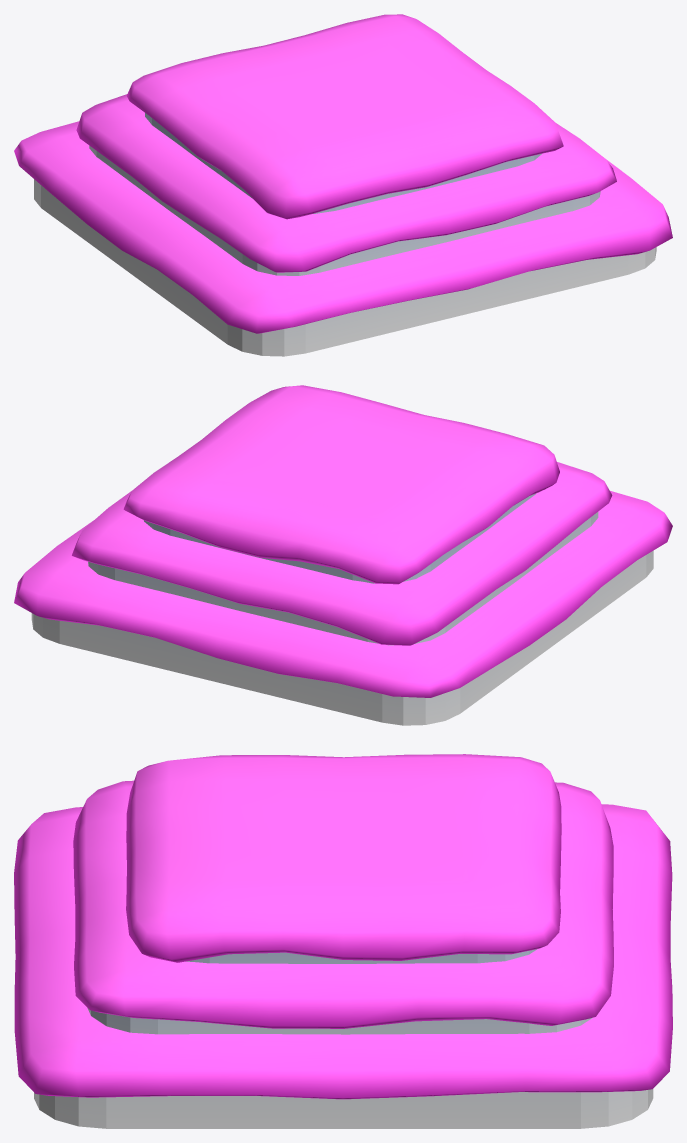
The model's file is Podium_01.glb.
3 views of the same model, one above another, from view 1: azimuth 30°, elevation 25°; view 2: azimuth 150°, elevation 25°; view 3: azimuth 270°, elevation 25° (orthographic). The views are drawn at different scales.
Parts seen in each view (by area): view 1: Podium_01; view 2: Podium_01; view 3: Podium_01.
Part boxes in pixels (x1,y1,x2,y2): Podium_01: [14, 14, 672, 356]; Podium_01: [14, 385, 672, 725]; Podium_01: [14, 754, 672, 1128].
Size of the model in its own units: 6.37 by 1.79 by 6.38.
2 materials, 2 textured.
